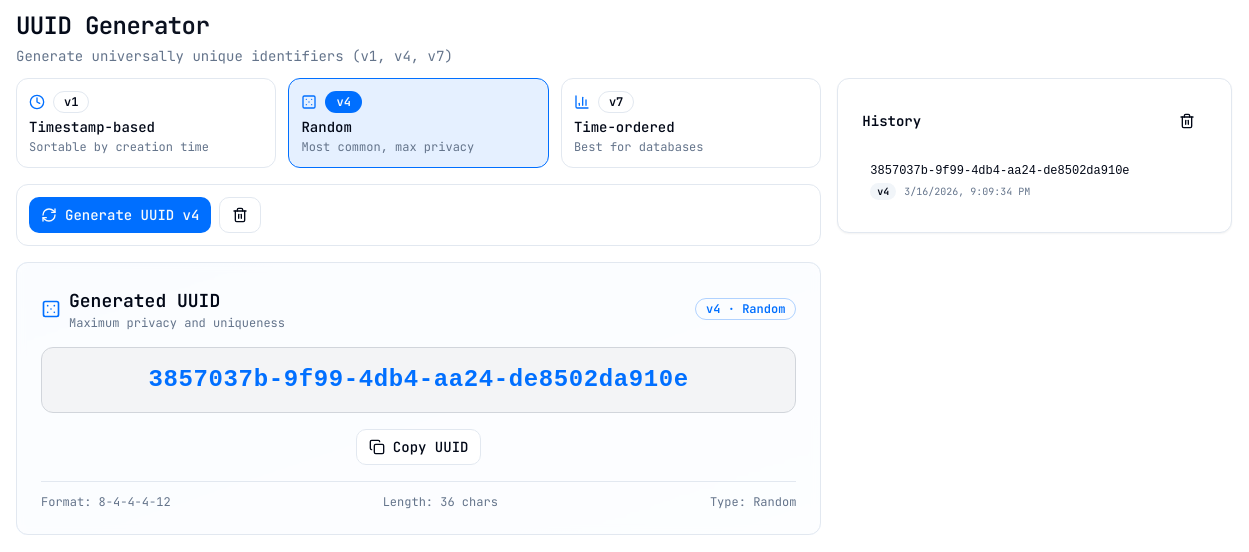
Test: UUIDPage › clear › clears the generated UUID
Expected: the heading "Generated UUID" is shown, 69,289 -> 220,312
Click the button named "Clear generated UUID". click: (240, 215)
box: 219,197 -> 261,233
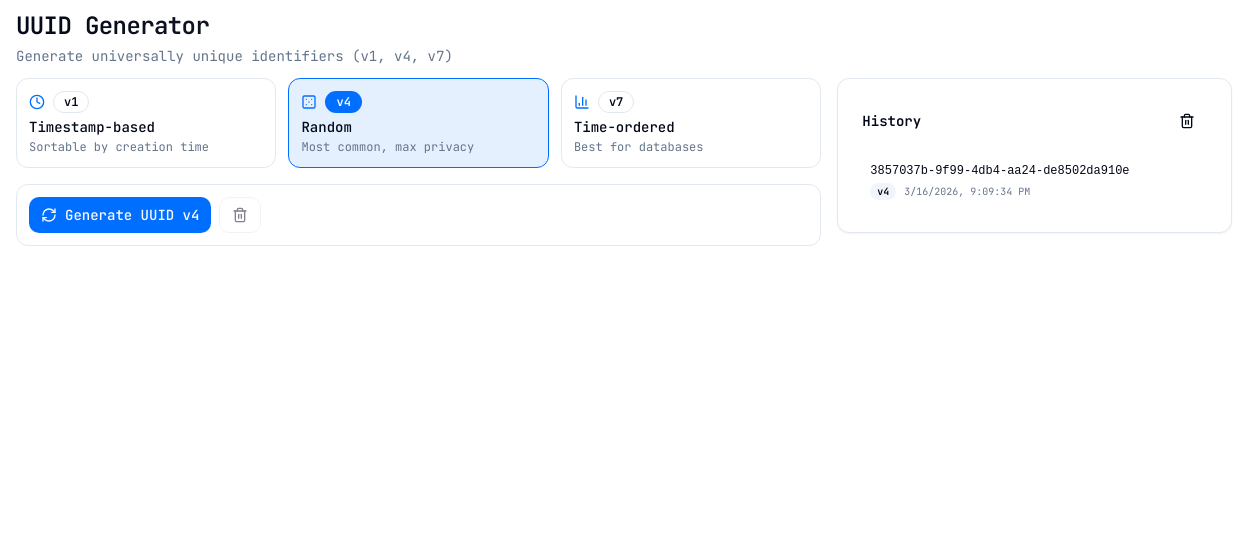
Expected: the heading "Generated UUID" is gone
